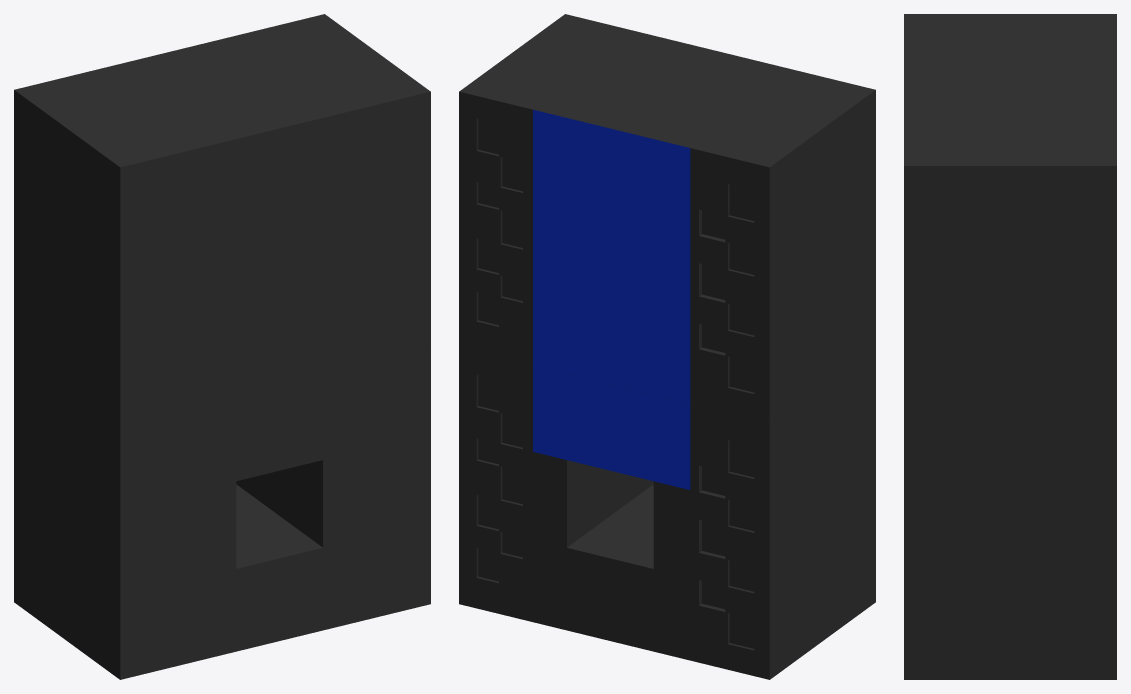
The model's file is FinalBuilding_Big_6.fbx.
3 renders of one model, left to right at view 1: azimuth 30°, elevation 25°; view 2: azimuth 150°, elevation 25°; view 3: azimuth 270°, elevation 25°, orthographic.
Visible parts, largest first — view 1: Building_Big_007; view 2: Building_Big_007; view 3: Building_Big_007.
Boxes of the visible parts, x1=… form: Building_Big_007: x1=14, y1=14, x2=430, y2=679; Building_Big_007: x1=459, y1=14, x2=875, y2=679; Building_Big_007: x1=904, y1=14, x2=1116, y2=679.
Bounding box in the file's own units: 16.6 × 26.17 × 9.82.
